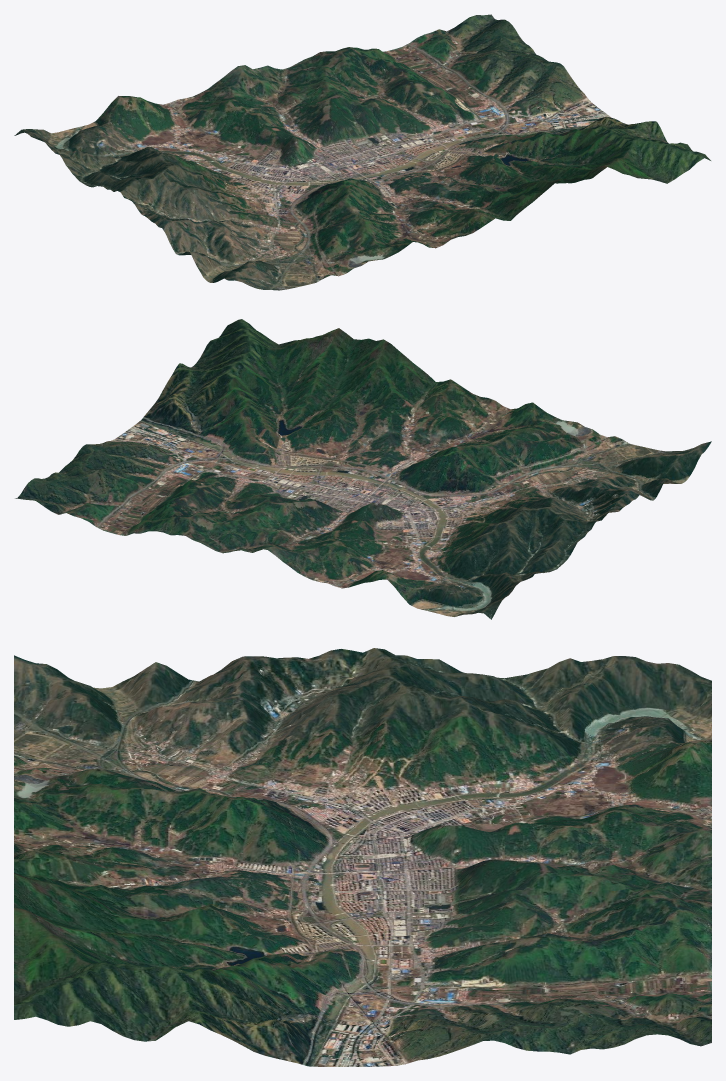
Rendered from thxcq_layer2.gltf.
3 views of the same model, one above another, from view 1: azimuth 30°, elevation 25°; view 2: azimuth 150°, elevation 25°; view 3: azimuth 270°, elevation 25° (orthographic). The views are drawn at different scales.
Visible parts, largest first — view 1: EXPORT_GOOGLE_SAT_WM; view 2: EXPORT_GOOGLE_SAT_WM; view 3: EXPORT_GOOGLE_SAT_WM.
Boxes of the visible parts, x1,y1,x2,y2 form: EXPORT_GOOGLE_SAT_WM: (14,14,710,290); EXPORT_GOOGLE_SAT_WM: (15,319,711,619); EXPORT_GOOGLE_SAT_WM: (14,648,711,1066).
Bounding box in the file's own units: 12230 × 1216 × 9784.
1 material, 1 textured.
